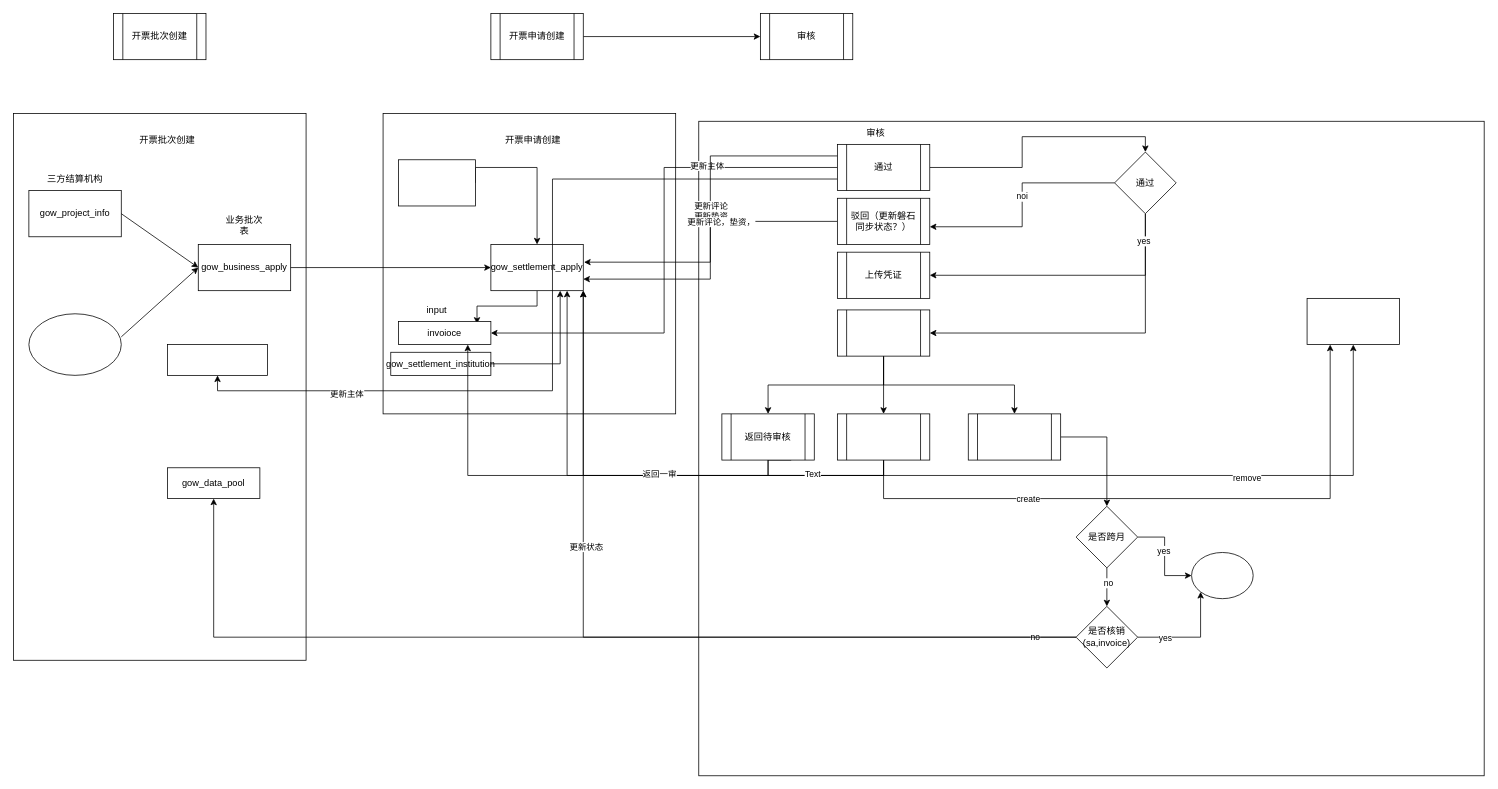
The diagram is 1498 pixels wide and 789 high, and some of its shapes have lost their labels. Here are the shapes that lost their labels. From the top down, the box of each, then its label:
(398, 159, 475, 206): sys_dic
(837, 309, 930, 356): 反审核
(1306, 298, 1399, 345): approve_record
(28, 313, 121, 375): 上传文件
(167, 344, 268, 375): gow_settlement
(837, 413, 930, 460): 驳回
(968, 413, 1061, 460): 冲正
(1191, 552, 1253, 599): end
